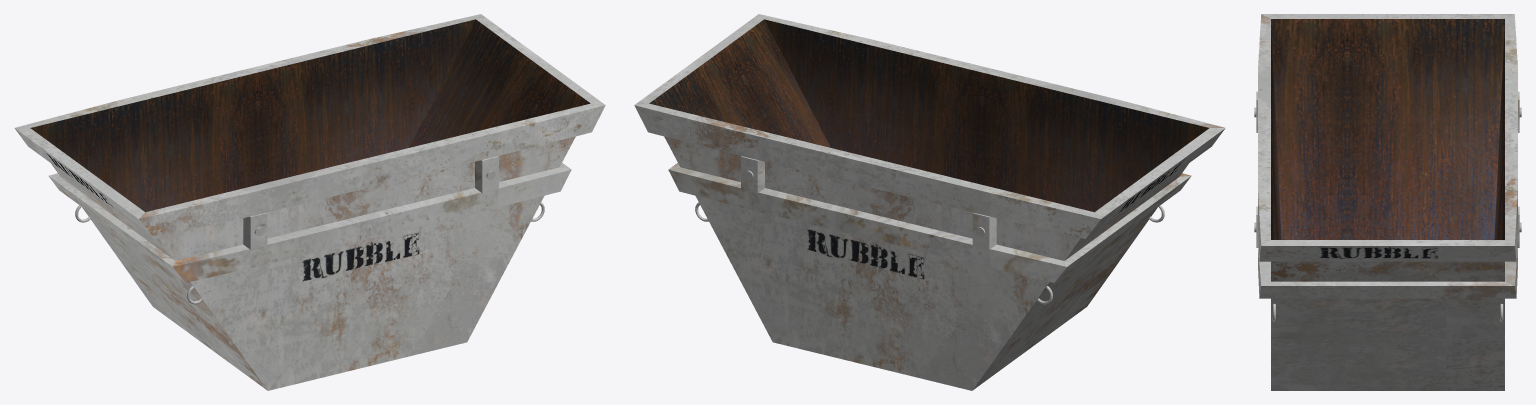
3 views of the same model, side by side, from view 1: azimuth 30°, elevation 25°; view 2: azimuth 150°, elevation 25°; view 3: azimuth 270°, elevation 25° (orthographic).
Visible parts, largest first — view 1: Skip_mini; view 2: Skip_mini; view 3: Skip_mini.
Part boxes in pixels (x1,y1,x2,y2): Skip_mini: (14, 14, 605, 390); Skip_mini: (634, 14, 1225, 390); Skip_mini: (1254, 14, 1521, 390).
Size of the model in its own units: 111 by 47.24 by 53.92.
